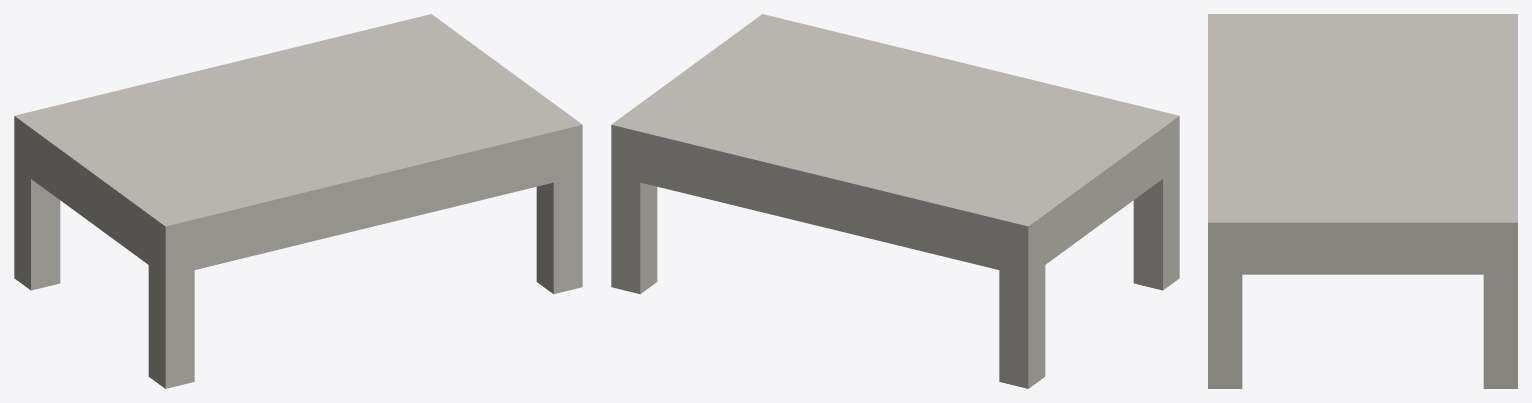
Rendered from white_table3.fbx.
3 views of the same model, side by side, from view 1: azimuth 30°, elevation 25°; view 2: azimuth 150°, elevation 25°; view 3: azimuth 270°, elevation 25° (orthographic). The views are drawn at different scales.
Visible parts, largest first — view 1: Cube; view 2: Cube; view 3: Cube.
Part boxes in pixels (<box>): Cube: <box>14,14,582,388</box>; Cube: <box>611,14,1179,388</box>; Cube: <box>1208,14,1517,388</box>.
Size of the model in its own units: 430 by 160 by 270.
